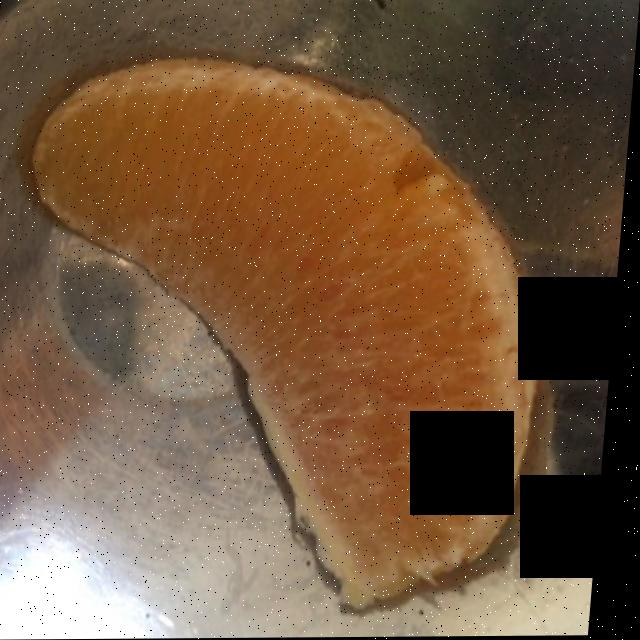orange: (48, 71, 540, 593)
